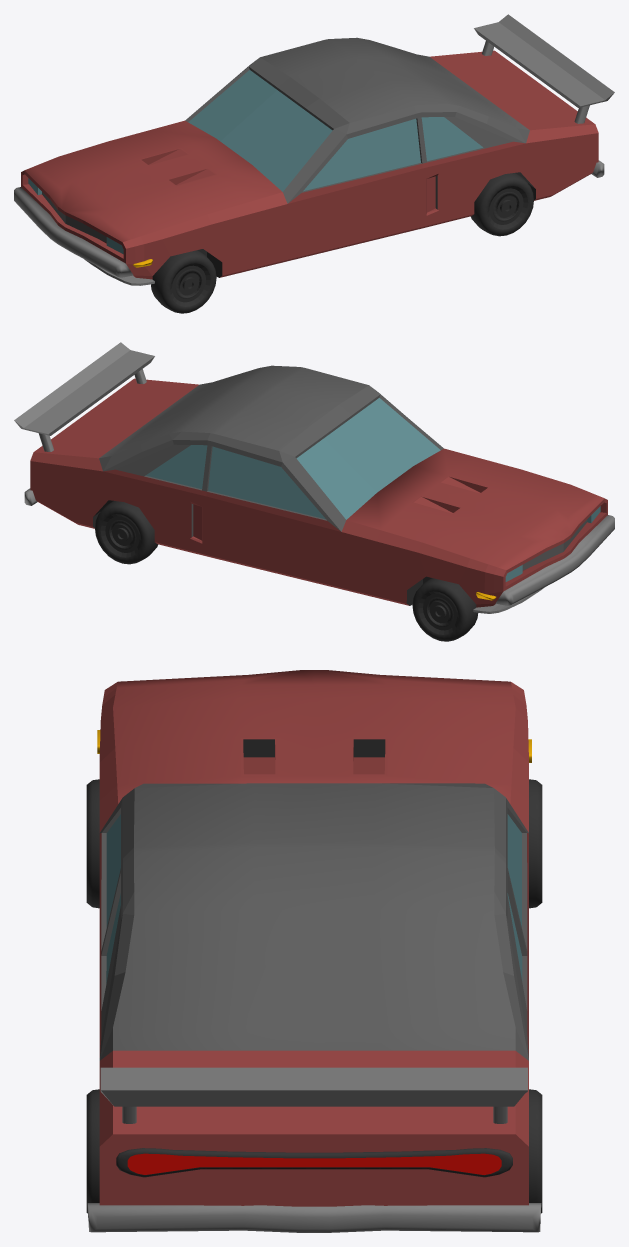
The model's file is PershogubaCar.fbx.
The picture shows the model from 3 angles, top to bottom: view 1: azimuth 30°, elevation 25°; view 2: azimuth 150°, elevation 25°; view 3: azimuth 270°, elevation 25°; orthographic projection. The views are drawn at different scales.
Parts seen in each view (by area): view 1: Car; view 2: Car; view 3: Car.
Boxes of the visible parts, x1=… form: Car: x1=14, y1=14, x2=614, y2=313; Car: x1=14, y1=342, x2=614, y2=641; Car: x1=86, y1=670, x2=542, y2=1232.
Size of the model in its own units: 429 by 117 by 167.
